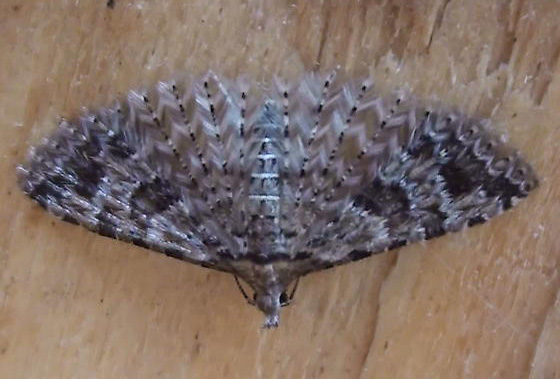Alucitidae: (16, 60, 539, 323)
moth: (18, 62, 535, 332)
